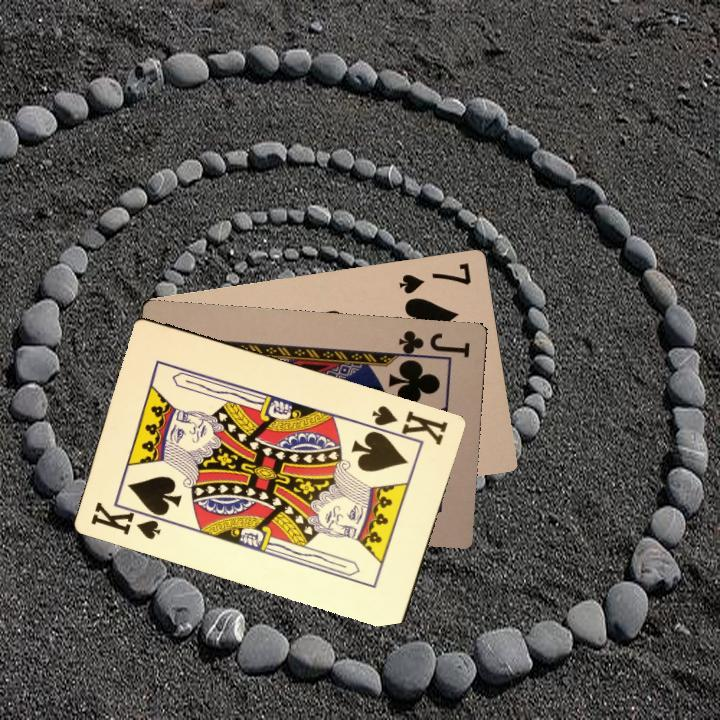7s: (395, 259, 474, 297)
Jc: (391, 327, 472, 364)
Ks: (366, 401, 450, 449), (87, 498, 170, 542)
